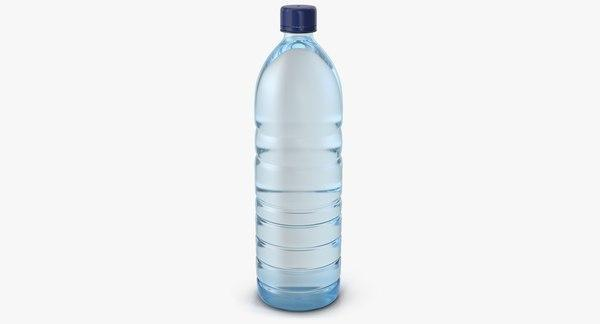bottle: (250, 3, 350, 311)
